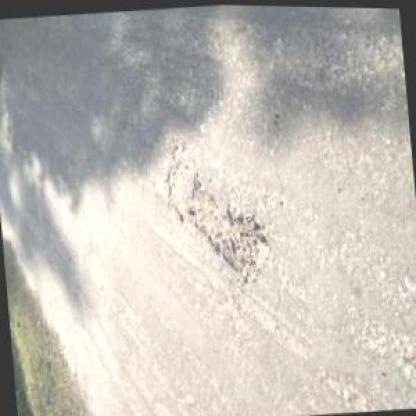pothole: (161, 151, 272, 293)
